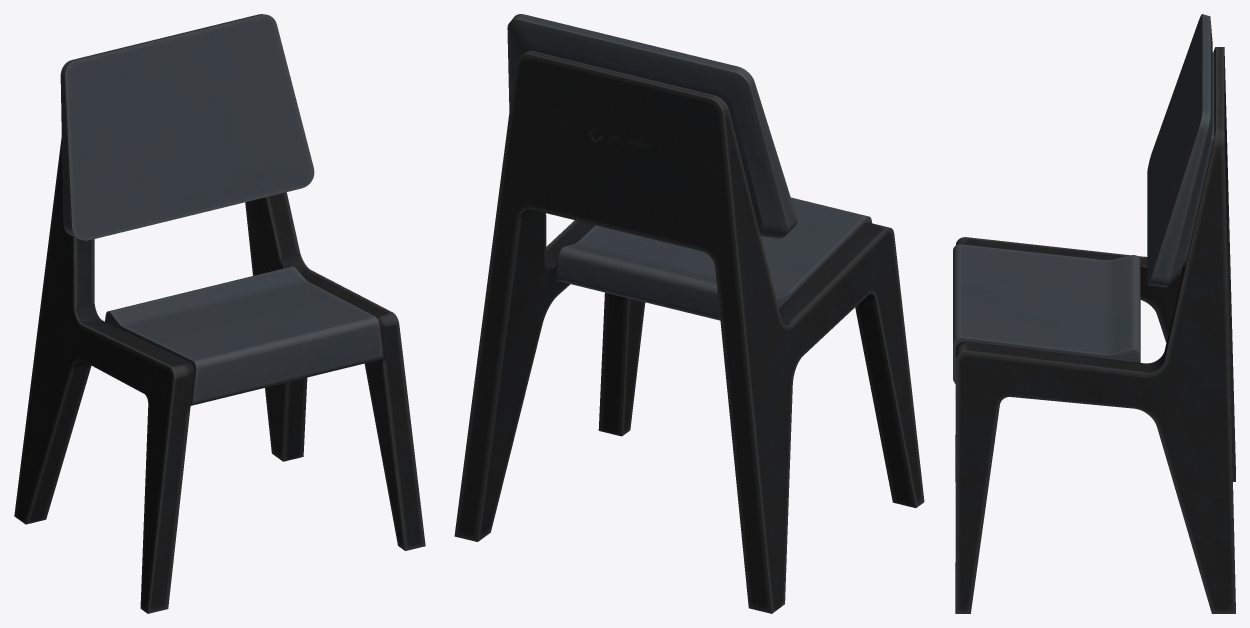
File: chair_black_single.glb
The picture shows the model from 3 angles, left to right: view 1: azimuth 30°, elevation 25°; view 2: azimuth 150°, elevation 25°; view 3: azimuth 270°, elevation 25°; orthographic projection. The views are drawn at different scales.
Visible parts, largest first — view 1: Cube.001_8; view 2: Cube.001_8; view 3: Cube.001_8.
Boxes of the visible parts, x1=… form: Cube.001_8: x1=14, y1=14, x2=425, y2=613; Cube.001_8: x1=454, y1=14, x2=924, y2=613; Cube.001_8: x1=953, y1=14, x2=1235, y2=613.
Bounding box in the file's own units: 0.5527 × 0.8675 × 0.464.
Materials: 1 (1 with a texture image).
